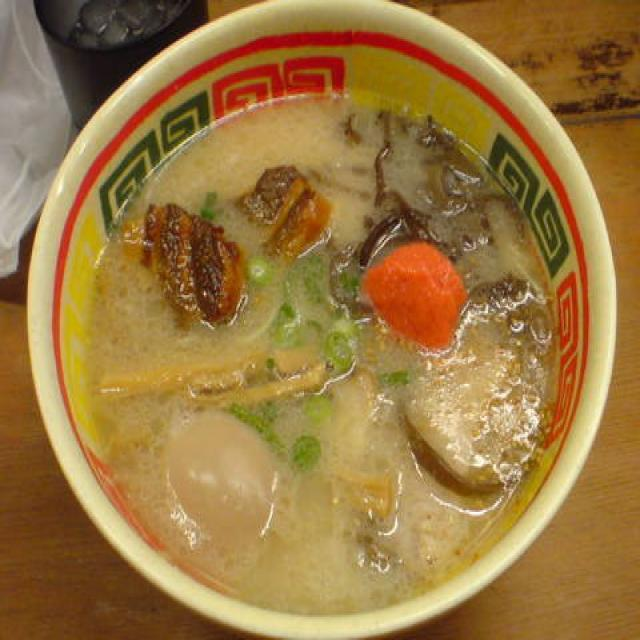面条主食: (24, 0, 616, 640)
